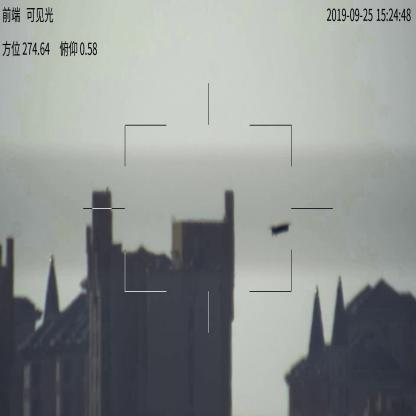uav: (272, 220, 292, 237)
